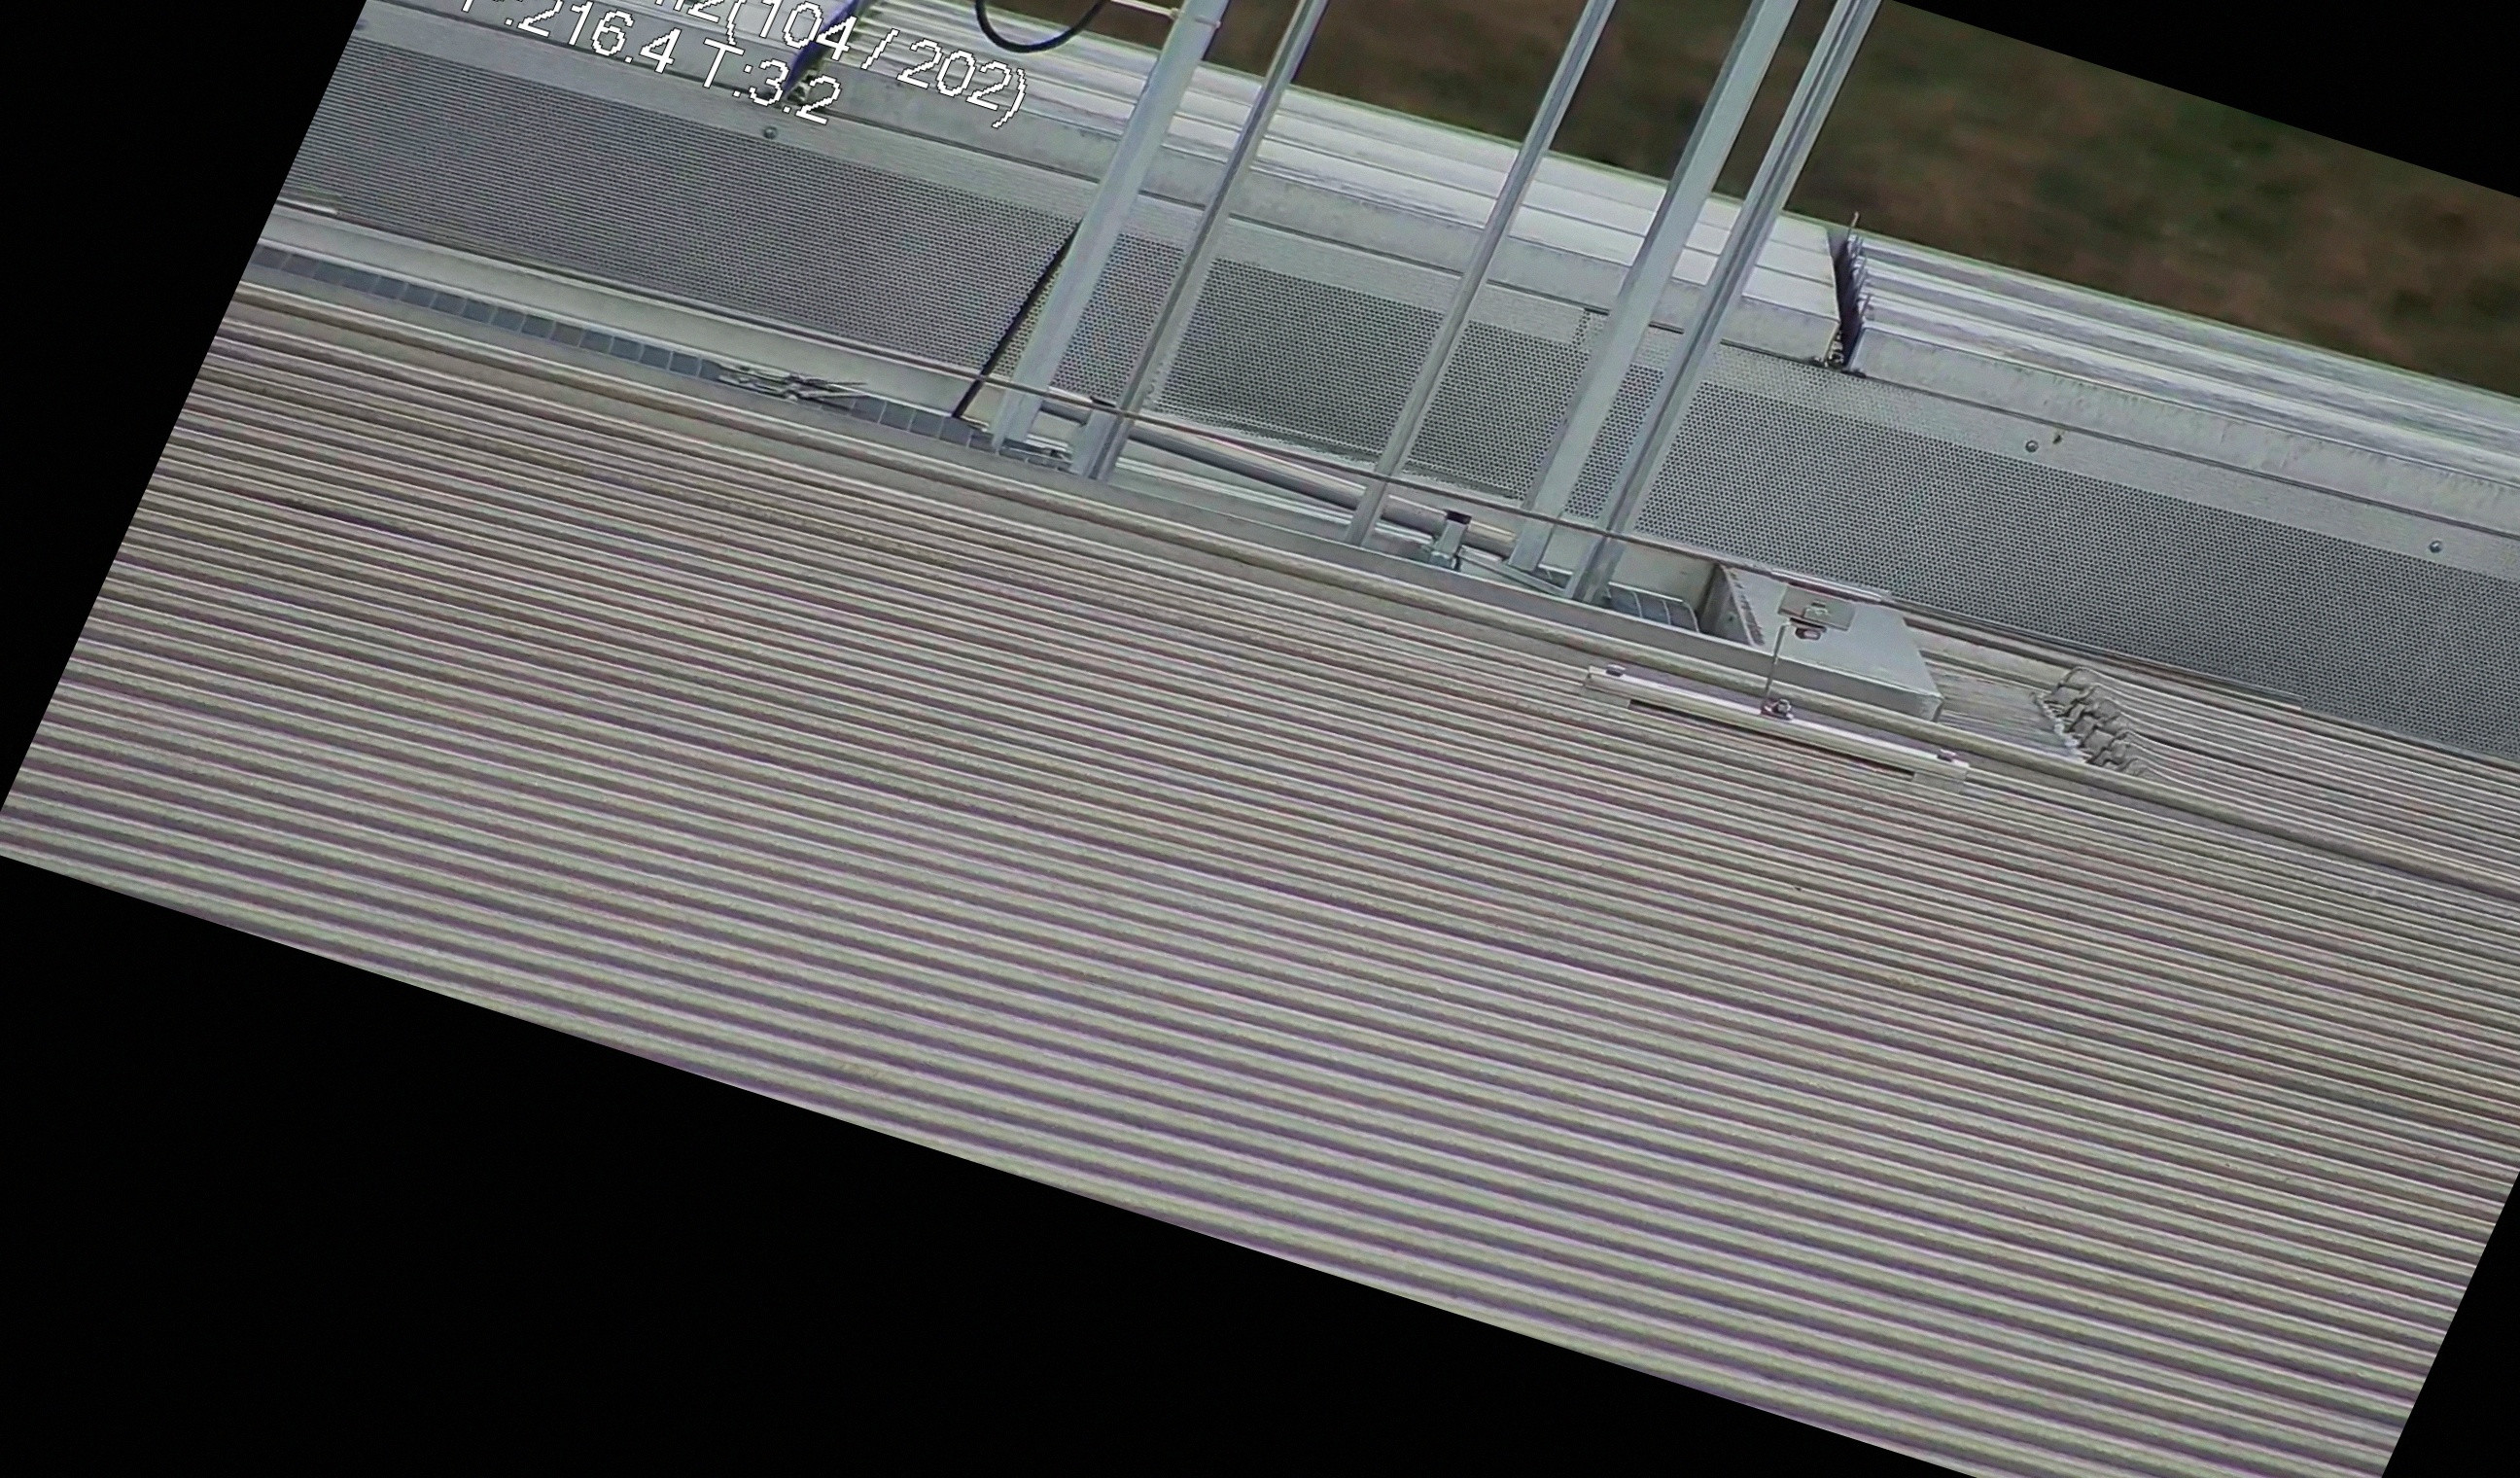Other: (1760, 197, 1933, 382)
